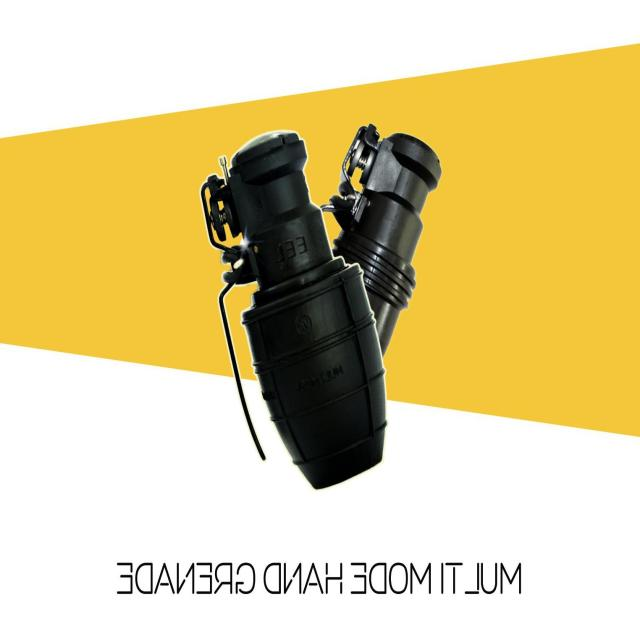grenade: (201, 131, 388, 490), (334, 125, 443, 356)
